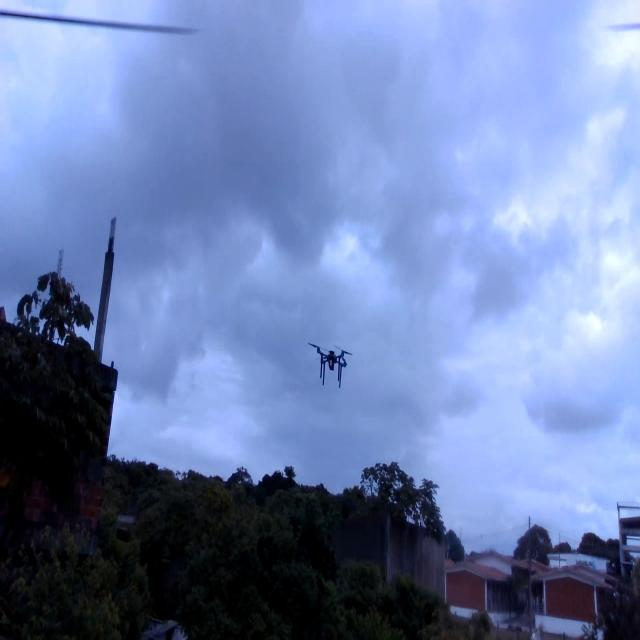-uav-: (304, 323, 356, 400)
